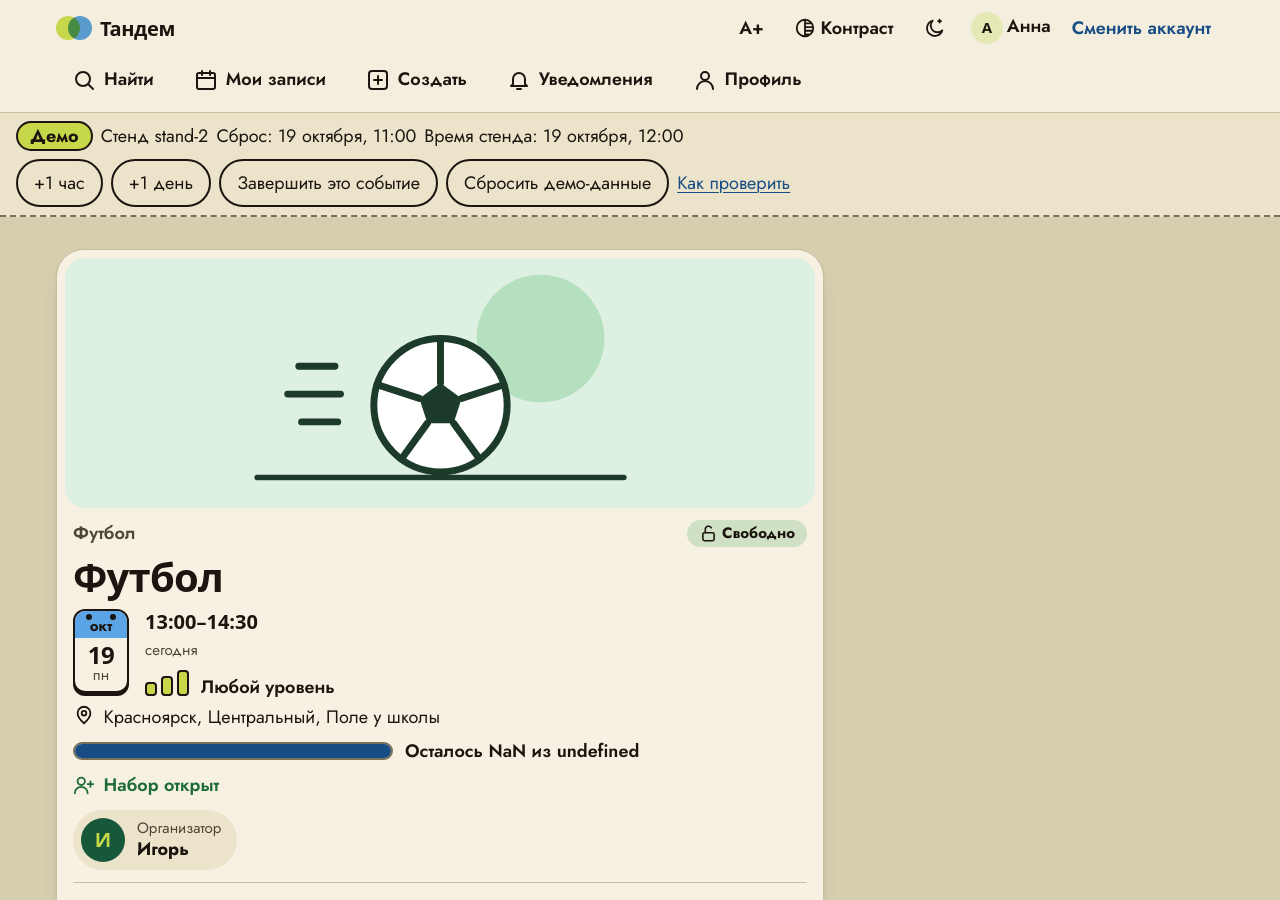
Test: демо-панель: ошибки, фокус, мобильный экран › «Завершить это событие» отклонено — сообщение тоже видно
Click the button "Завершить это событие" at (329, 183), box [219,159,438,207]
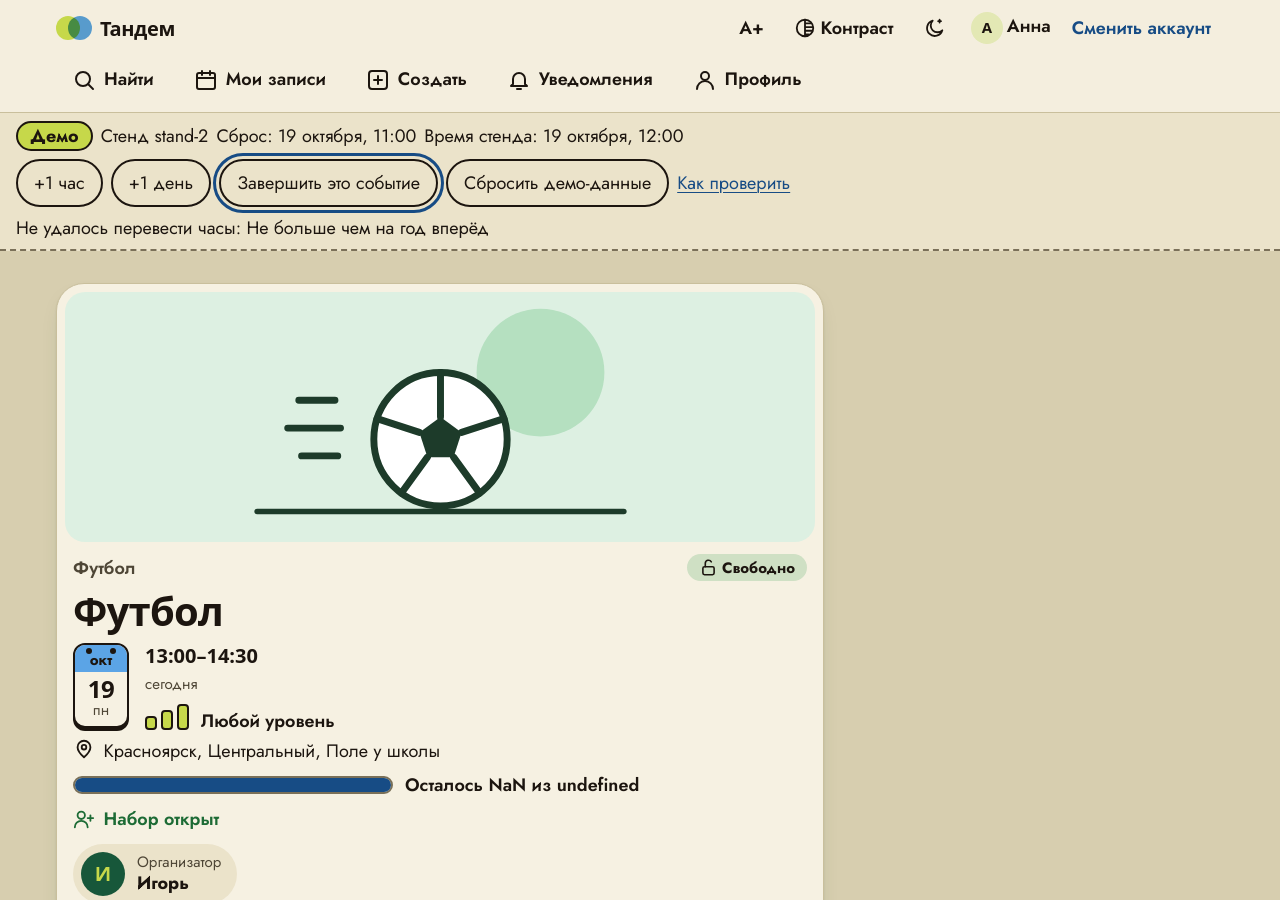
Result: the message reads "Не удалось перевести часы: Не больше чем на год вперёд" at [16,215,489,241]
